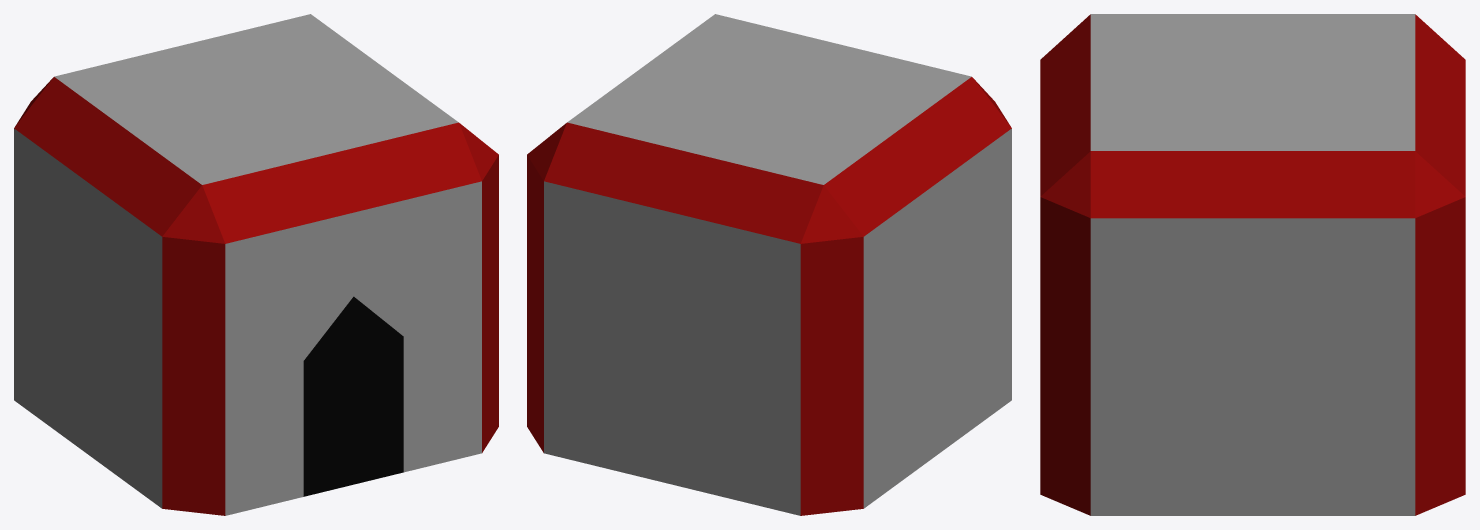
File: Vault.glb
3 views of the same model, side by side, from view 1: azimuth 30°, elevation 25°; view 2: azimuth 150°, elevation 25°; view 3: azimuth 270°, elevation 25° (orthographic). The views are drawn at different scales.
Visible parts, largest first — view 1: Cube; view 2: Cube; view 3: Cube.
Part boxes in pixels (x1,y1,x2,y2): Cube: (14,14,498,515); Cube: (527,14,1011,515); Cube: (1040,14,1465,515).
Size of the model in its own units: 0.8901 by 0.7929 by 0.8901.
